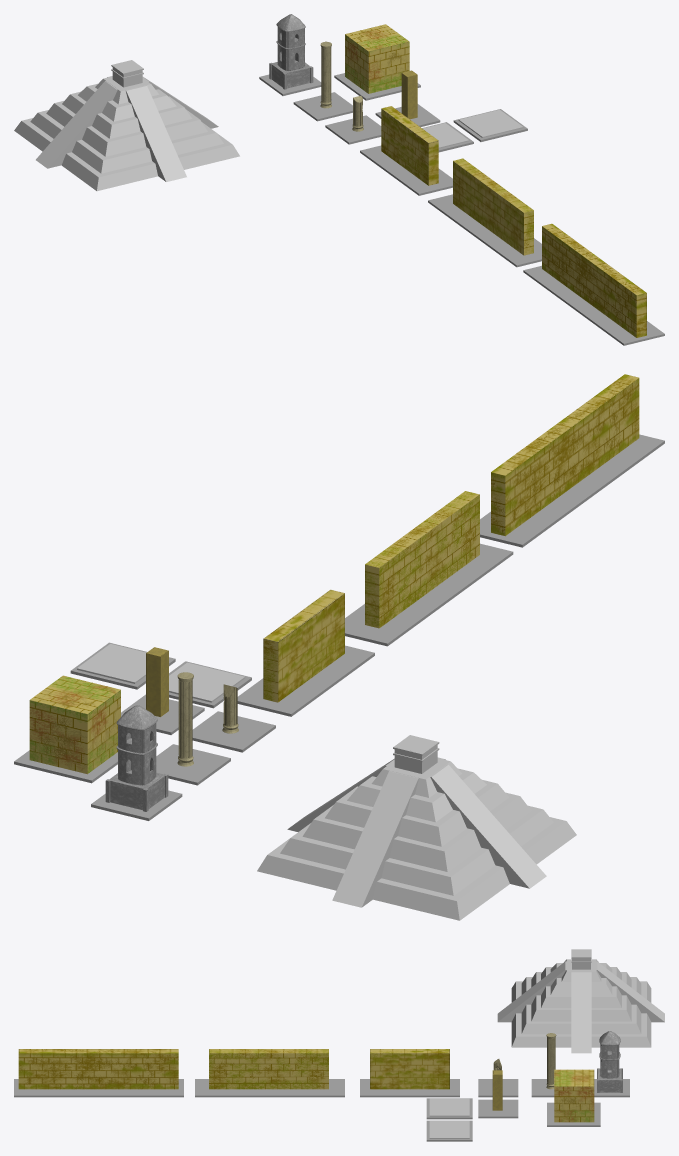
File: Ancient Ruins.fbx
3 renders of one model, top to bottom at view 1: azimuth 30°, elevation 25°; view 2: azimuth 150°, elevation 25°; view 3: azimuth 270°, elevation 25°, orthographic. The views are drawn at different scales.
Parts seen in each view (by area): view 1: pCube67, WallLOng, WallMid, pCube84, WallSHort, pCube85, pCube70, pCube80, pCube74, pCube72, pCube93, pCube29 (+7 smaller); view 2: pCube67, WallLOng, WallMid, pCube84, WallSHort, pCube85, pCube70, pCube80, pCube74, pCube72, pCube30, pCube93 (+8 smaller); view 3: pCube67, WallLOng, WallMid, WallSHort, pCube84, pCube85, pCube70, pCube74, pCube80, pCube72, pCube90, pCube93 (+11 smaller).
Part boxes in pixels (bbox=[...]): pCube67: bbox=[14, 76, 239, 191]; WallLOng: bbox=[542, 223, 646, 337]; WallMid: bbox=[453, 158, 533, 255]; pCube84: bbox=[345, 24, 409, 93]; WallSHort: bbox=[381, 106, 438, 185]; pCube85: bbox=[107, 76, 186, 181]; pCube70: bbox=[36, 77, 218, 168]; pCube80: bbox=[523, 265, 664, 345]; pCube74: bbox=[428, 194, 541, 267]; pCube72: bbox=[360, 145, 452, 195]; pCube93: bbox=[458, 109, 523, 137]; pCube29: bbox=[293, 92, 352, 121]; pCube67: bbox=[257, 758, 576, 920]; WallLOng: bbox=[491, 374, 639, 536]; WallMid: bbox=[365, 491, 479, 628]; pCube84: bbox=[29, 675, 120, 774]; WallSHort: bbox=[263, 589, 344, 702]; pCube85: bbox=[332, 757, 445, 907]; pCube70: bbox=[287, 758, 546, 888]; pCube80: bbox=[480, 434, 664, 547]; pCube74: bbox=[345, 543, 513, 646]; pCube72: bbox=[237, 645, 374, 716]; pCube30: bbox=[192, 711, 275, 752]; pCube93: bbox=[77, 644, 146, 683]; pCube67: bbox=[511, 959, 651, 1047]; WallLOng: bbox=[18, 1049, 178, 1089]; WallMid: bbox=[209, 1049, 328, 1089]; WallSHort: bbox=[370, 1049, 449, 1089]; pCube84: bbox=[554, 1069, 594, 1122]; pCube85: bbox=[497, 961, 664, 1022]; pCube70: bbox=[571, 972, 591, 1053]; pCube74: bbox=[195, 1079, 344, 1097]; pCube80: bbox=[14, 1079, 183, 1097]; pCube72: bbox=[360, 1079, 459, 1097]; pCube90: bbox=[429, 1098, 469, 1116]; pCube93: bbox=[429, 1121, 469, 1138].
Size of the model in its own units: 38.51 by 7.14 by 65.12.
